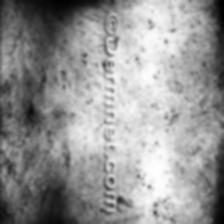Non-Cancerous Skin Condition: (0, 37, 92, 220), (122, 110, 191, 224), (144, 10, 218, 82), (208, 114, 224, 171)
